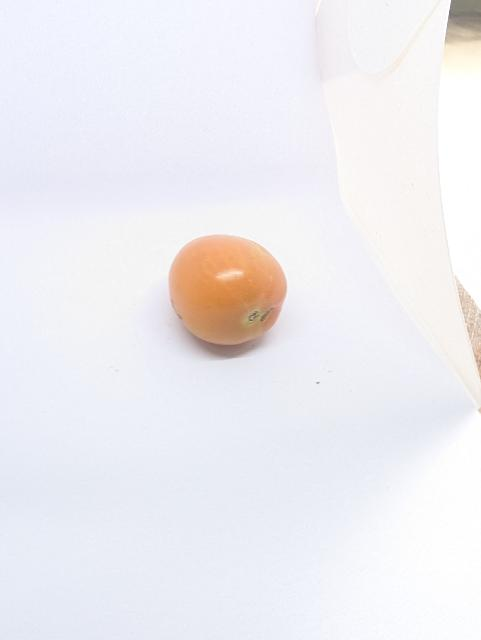turning: (164, 224, 295, 354)
